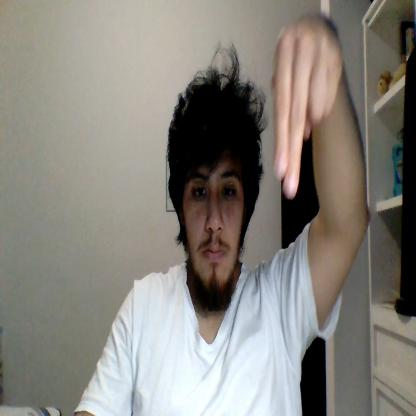N: (270, 10, 343, 197)
